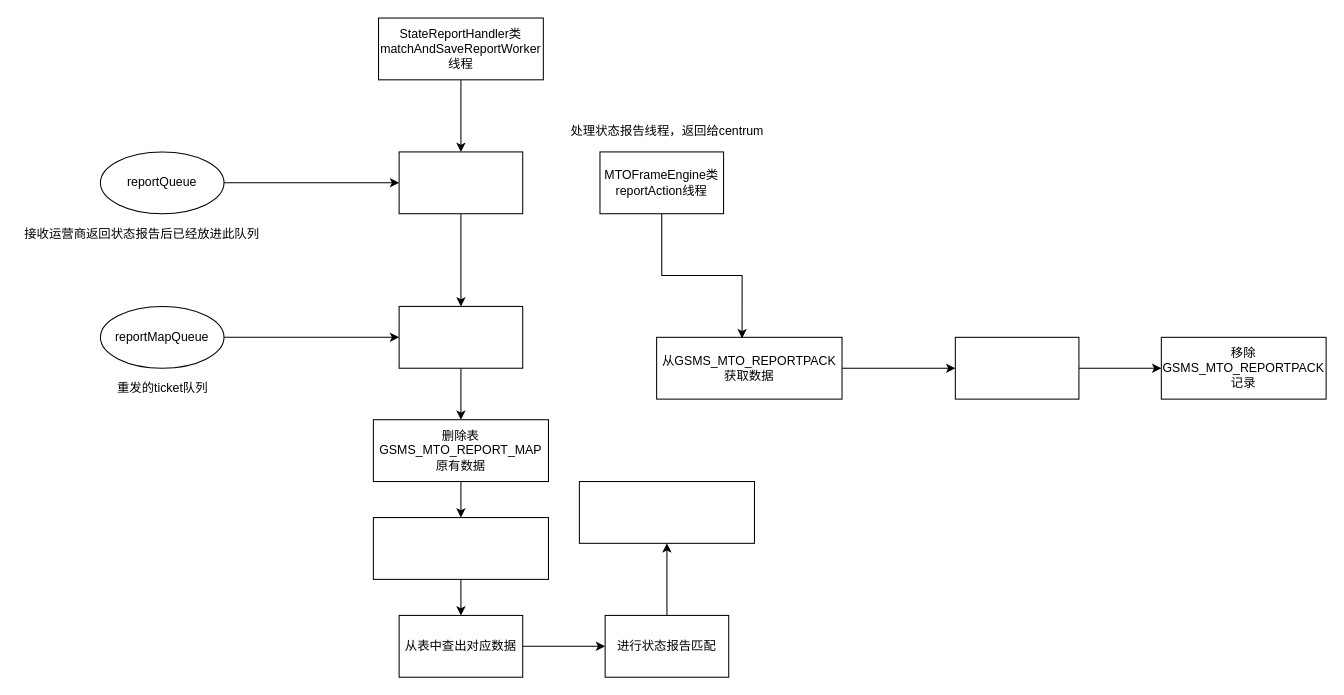
The diagram is 1344 pixels wide and 695 high, and some of its shapes have lost their labels. The centre of each missing label's shape, as x and y in pixels:
匹配到的状态报告组装成ReportPack存表GSMS_MTO_REPORTPACK，准备发回centrum: the point at 666,511
发送STATE_REPORT回centrum: the point at 1016,367
获取所有数据: the point at 460,336
获取状态报告数据: the point at 460,182
重发的记录插入GSMS_MTO_REPORT_MAP: the point at 460,548
